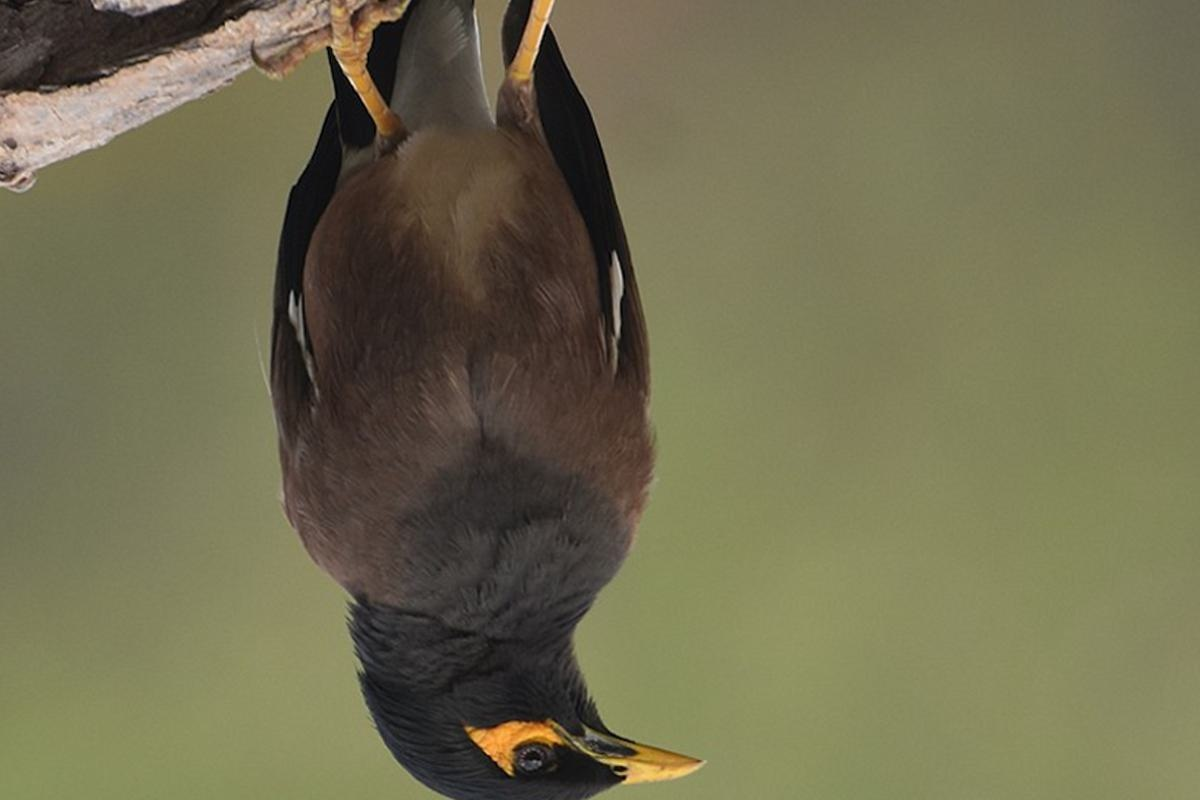myna: (258, 8, 906, 800)
